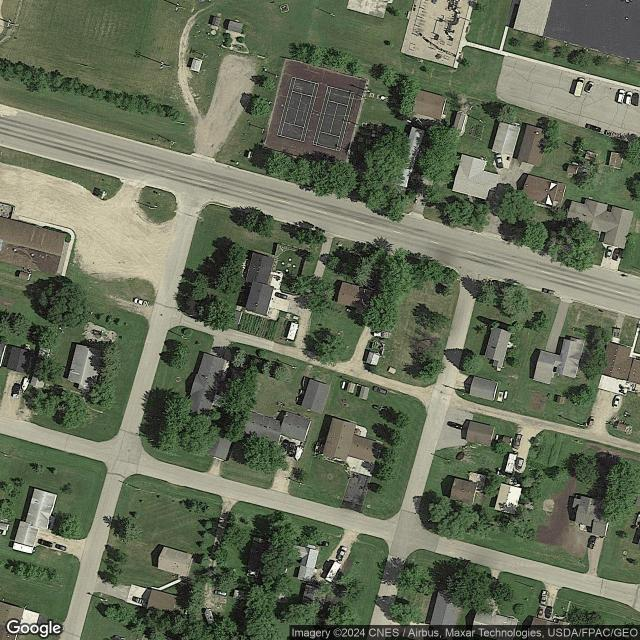Propane: (571, 160, 579, 166), (503, 390, 508, 399), (341, 381, 346, 389), (406, 119, 412, 124), (514, 122, 521, 126), (495, 434, 499, 440)
